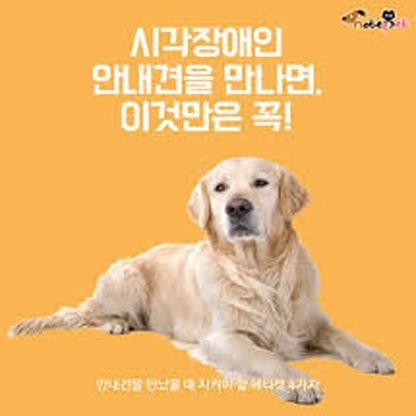guide-dog: (3, 156, 400, 407)
